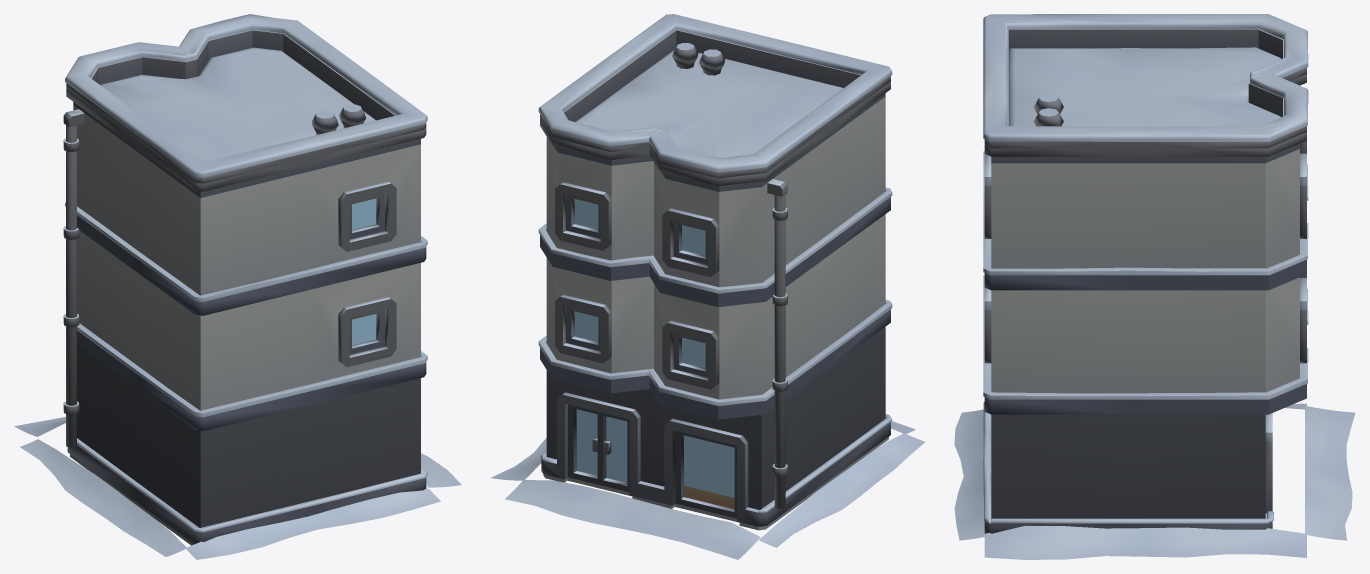
Rendered from bldg_a.glb.
3 views of the same model, side by side, from view 1: azimuth 30°, elevation 25°; view 2: azimuth 150°, elevation 25°; view 3: azimuth 270°, elevation 25° (orthographic). The views are drawn at different scales.
Visible parts, largest first — view 1: Base, Roof; view 2: Base, Roof; view 3: Base, Roof.
Part boxes in pixels (bbox=[...]): Base: bbox=[14, 36, 461, 559]; Roof: bbox=[65, 14, 427, 183]; Base: bbox=[491, 36, 924, 559]; Roof: bbox=[538, 14, 892, 178]; Base: bbox=[954, 36, 1355, 559]; Roof: bbox=[983, 14, 1308, 148].
Size of what is drawn, in the model's own units: 10.61 by 12.54 by 11.12.
